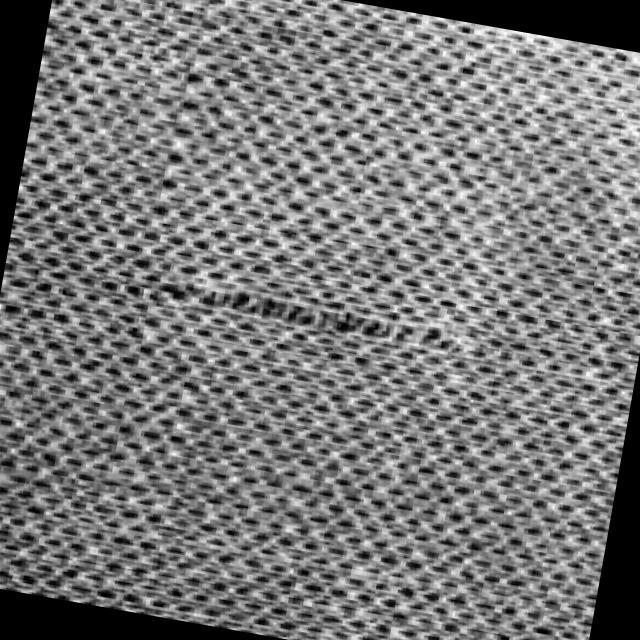Warp_Weft: (158, 266, 473, 364)
